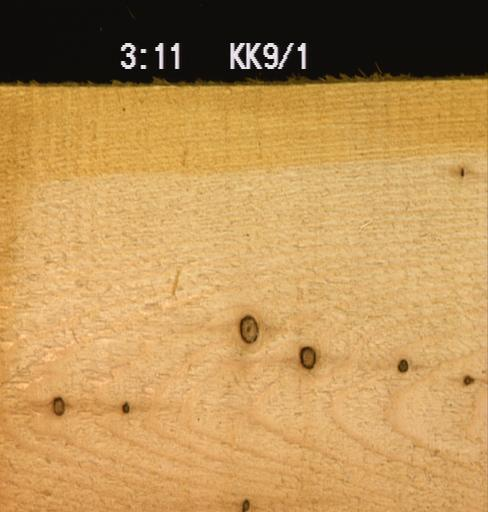dry_knot: (238, 314, 259, 342), (298, 345, 316, 369), (51, 395, 65, 416), (396, 358, 408, 372)
edge_knot: (240, 496, 249, 511)
small_knot: (462, 373, 474, 386), (120, 400, 130, 414), (457, 164, 464, 179)
